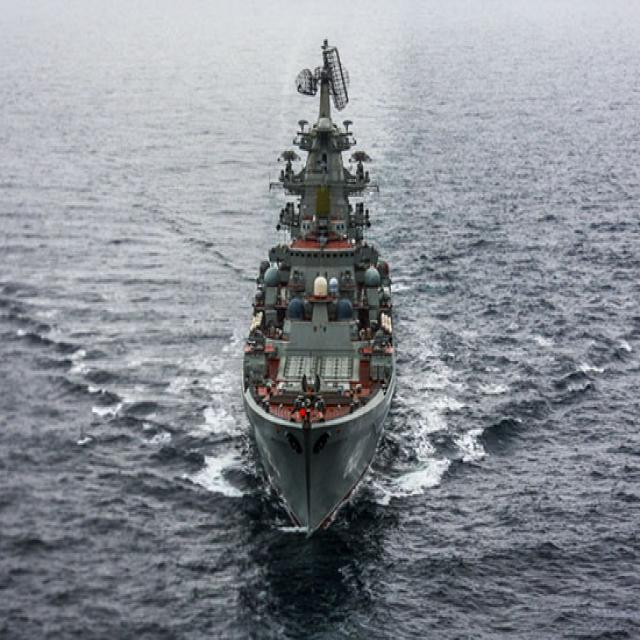navalvessels: (234, 34, 402, 534)
